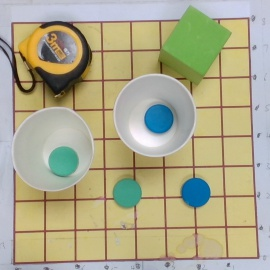blue: (180, 176, 211, 207)
cup_blue: (113, 73, 199, 160)
cup_green: (13, 107, 101, 193)
green: (113, 178, 143, 208)
